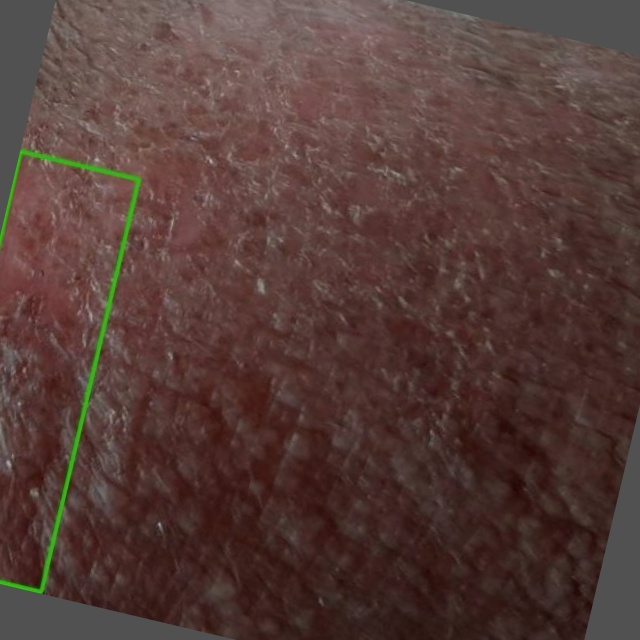Seborrheic Dermatitis: (0, 152, 139, 593)
